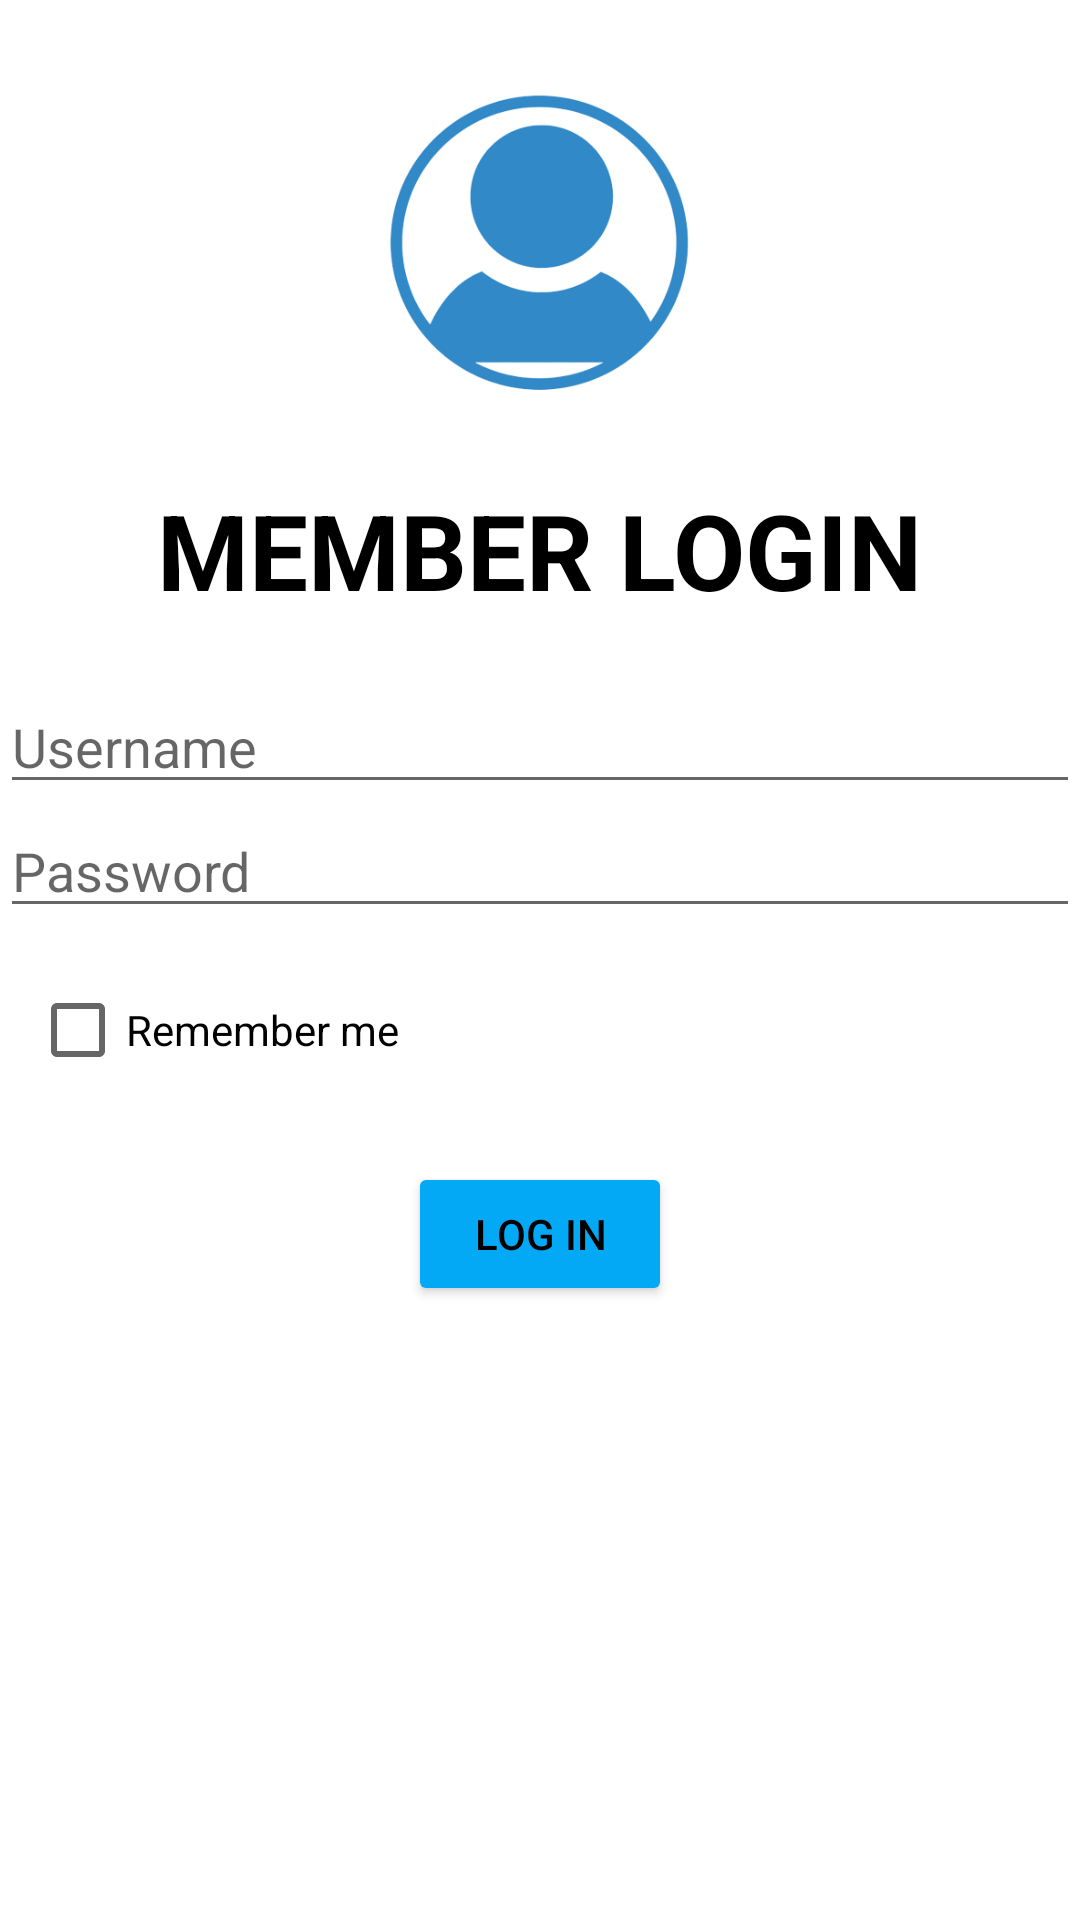

Where icons sit on this 1080x1920 app screen, as (x1, y1, x2, y2):
user: (390, 95, 688, 390)
